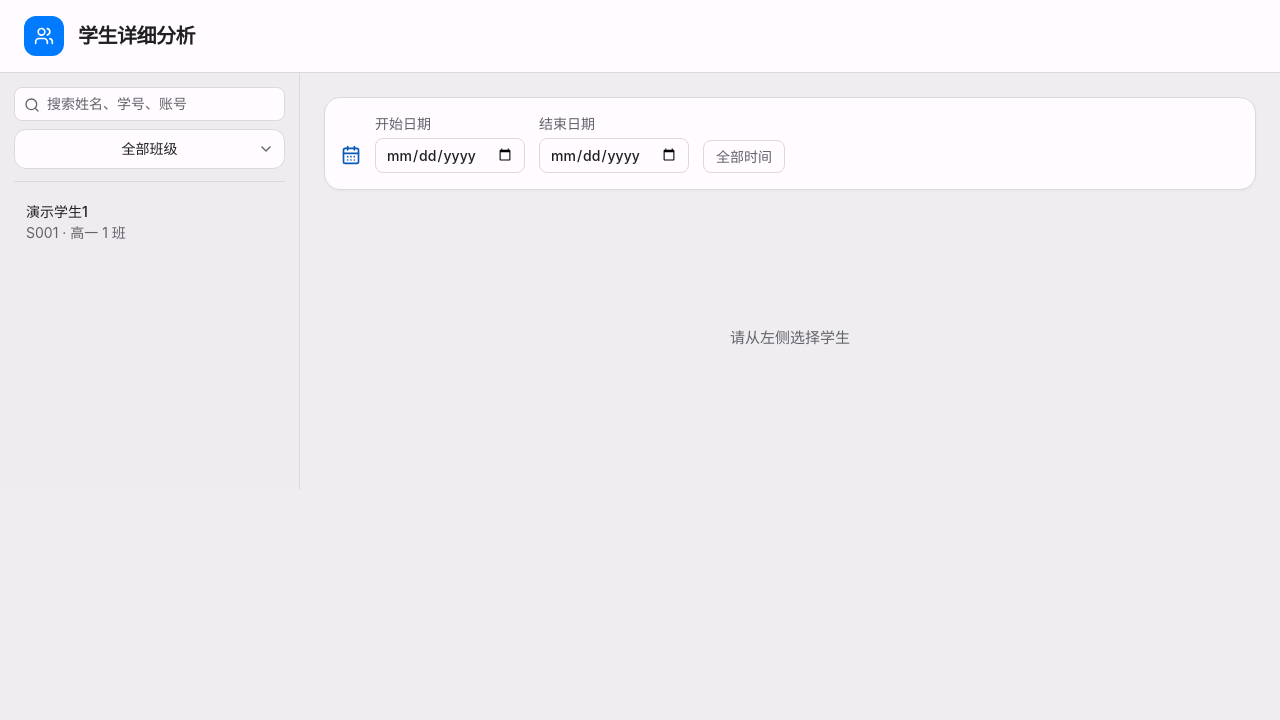
TeacherStudentInsightsWorkspace › keeps changed historical question versions as separate weak question cards
Click the text "演示学生1". click: (57, 211)
box: [26,203,88,220]
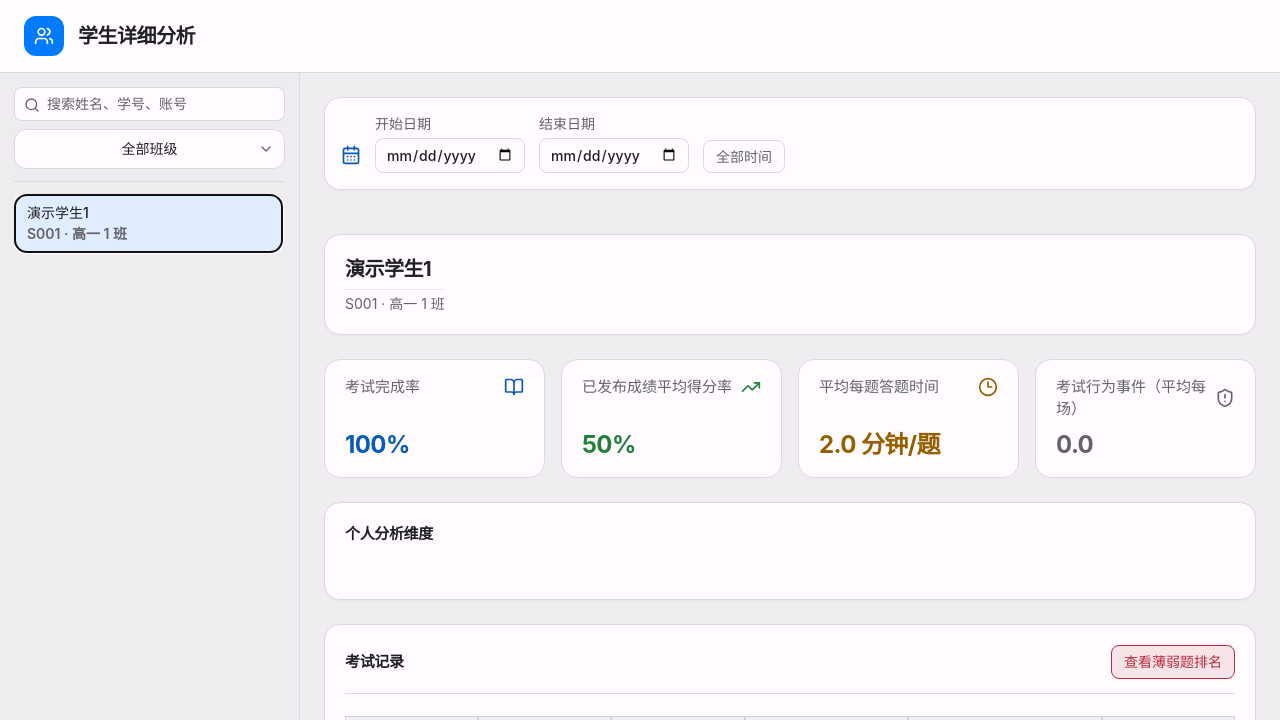
Click the button "查看薄弱题排名". click: (1173, 662)
box: [1111,645,1235,679]
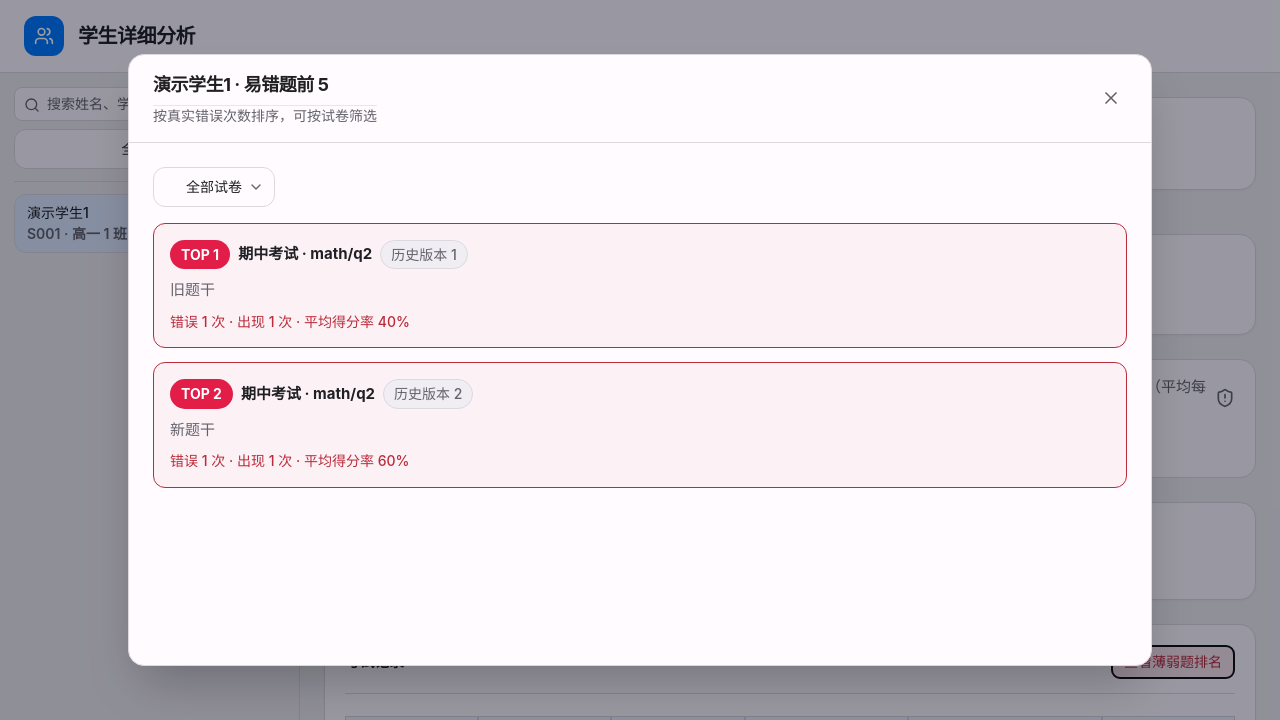
Expected: the text "历史版本 1" is shown, [380,240,468,269]
Expected: the text "历史版本 2" is shown, [383,379,473,409]
Expected: the text "旧题干" is shown, [170,280,215,299]
